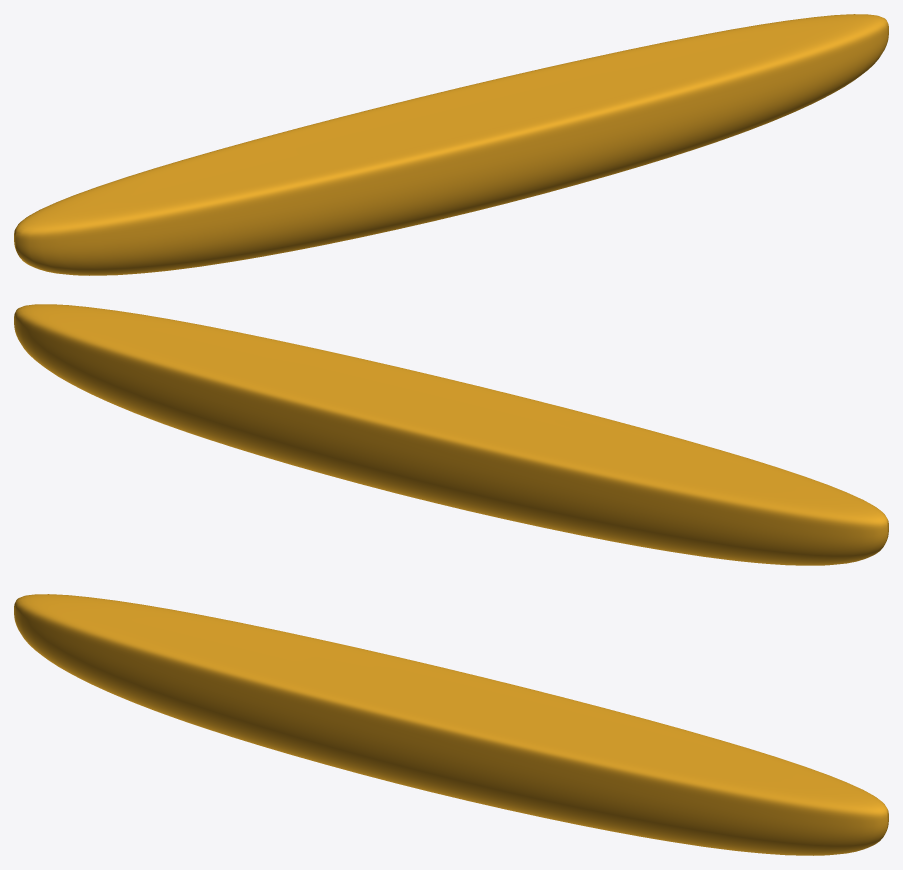
Rendered from yut.glb.
3 renders of one model, top to bottom at view 1: azimuth 30°, elevation 25°; view 2: azimuth 150°, elevation 25°; view 3: azimuth 330°, elevation 25°, orthographic.
Parts seen in each view (by area): view 1: Cube.004; view 2: Cube.004; view 3: Cube.004.
Part boxes in pixels (x1,y1,x2,y2): Cube.004: [14, 14, 888, 275]; Cube.004: [14, 304, 888, 565]; Cube.004: [14, 594, 888, 855].
Size of the model in its own units: 7.75 by 0.7538 by 0.994.
